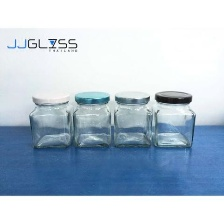bottle: (150, 88, 203, 152), (26, 88, 75, 154), (110, 89, 156, 151), (71, 88, 114, 150)
